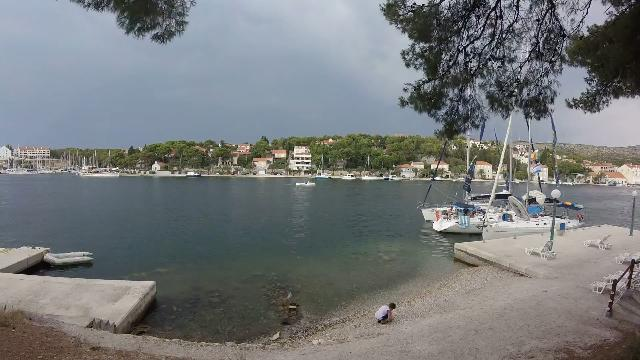speedboat: (292, 178, 320, 190)
